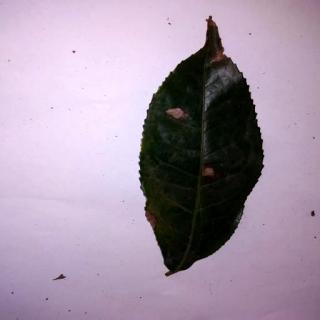Anthracnose: (142, 16, 265, 277)
